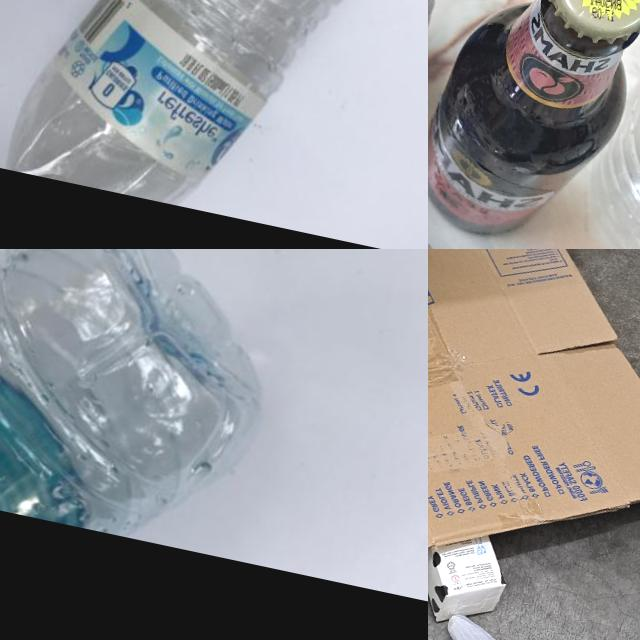caixinha: (428, 520, 517, 634)
garrafa de vidro: (428, 0, 640, 249), (428, 0, 499, 165)
garrafa plástica: (0, 0, 428, 243), (0, 249, 301, 559), (572, 0, 640, 249)
papelão: (428, 249, 640, 640)
